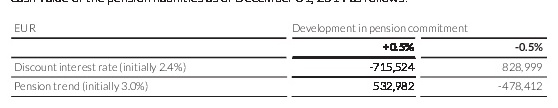table: (0, 0, 558, 108)
